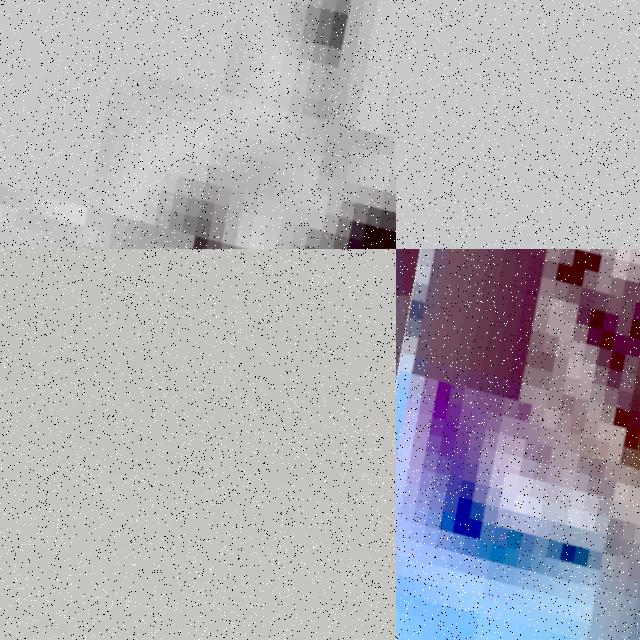drone: (0, 249, 396, 640), (0, 0, 396, 249), (396, 249, 640, 640)
